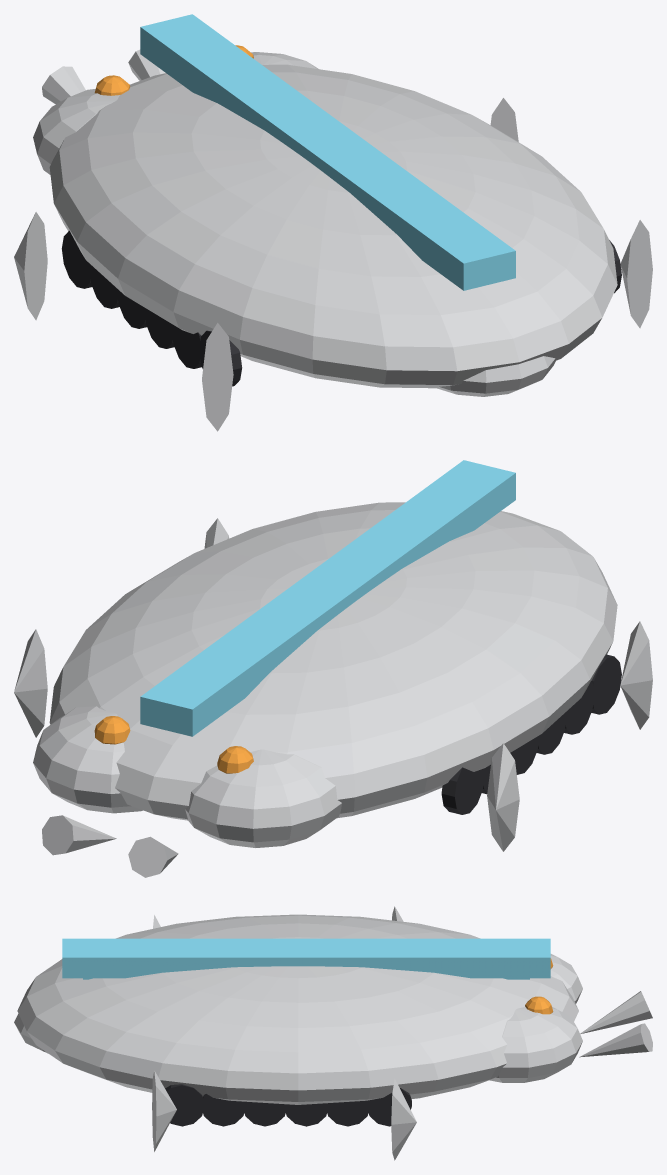
Rendered from SM_Unit_WattLeech.glb.
3 renders of one model, top to bottom at view 1: azimuth 30°, elevation 25°; view 2: azimuth 150°, elevation 25°; view 3: azimuth 270°, elevation 25°, orthographic. The views are drawn at different scales.
Visible parts, largest first — view 1: SM_Unit_WattLeech; view 2: SM_Unit_WattLeech; view 3: SM_Unit_WattLeech.
Part boxes in pixels (<box>): SM_Unit_WattLeech: <box>14,14,652,431</box>; SM_Unit_WattLeech: <box>14,460,652,877</box>; SM_Unit_WattLeech: <box>14,906,652,1160</box>.
Bounding box in the file's own units: 1.04 × 0.3375 × 1.54.
